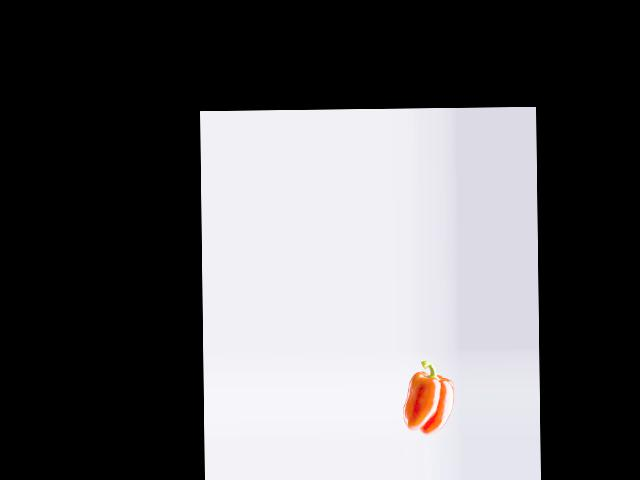bell_pepper: (401, 359, 457, 432)
